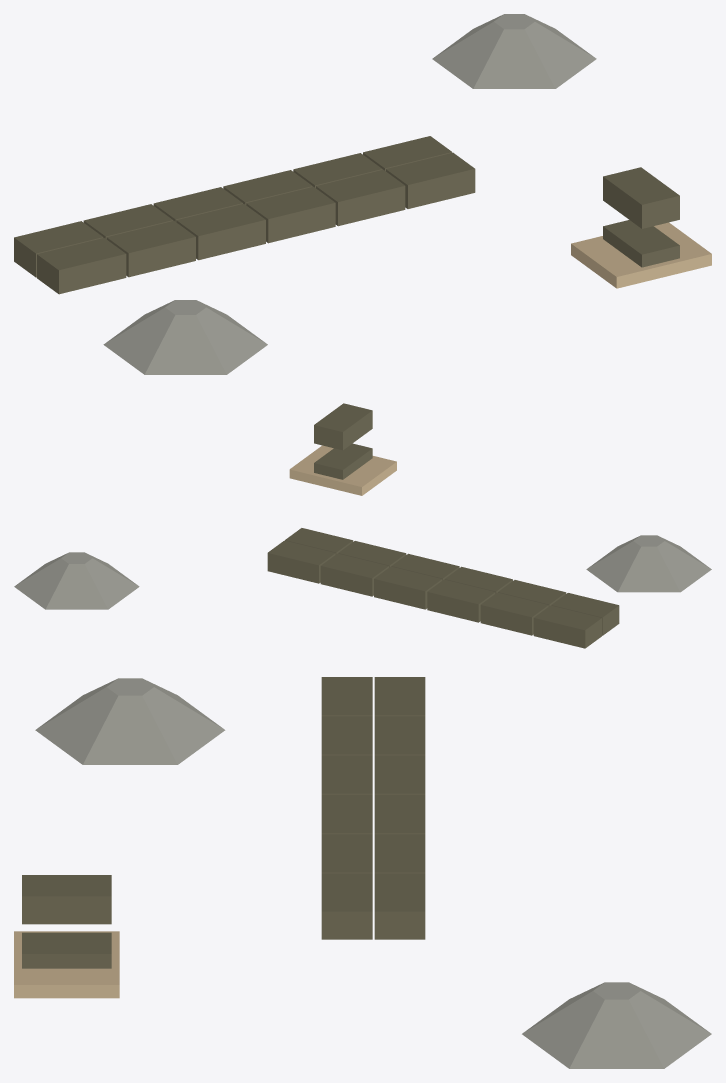
The model's file is SM_ObraReconstruccion_v4_8m_LOD1.fbx.
The picture shows the model from 3 angles, top to bottom: view 1: azimuth 30°, elevation 25°; view 2: azimuth 150°, elevation 25°; view 3: azimuth 270°, elevation 25°; orthographic projection. The views are drawn at different scales.
Parts seen in each view (by area): view 1: SM_obra_curso_v48_LOD1; view 2: SM_obra_curso_v48_LOD1; view 3: SM_obra_curso_v48_LOD1.
Part boxes in pixels (x1,y1,x2,y2): SM_obra_curso_v48_LOD1: [14, 14, 711, 374]; SM_obra_curso_v48_LOD1: [14, 403, 711, 648]; SM_obra_curso_v48_LOD1: [14, 677, 711, 1068].
Bounding box in the file's own units: 8.36 × 0.895 × 6.6.
